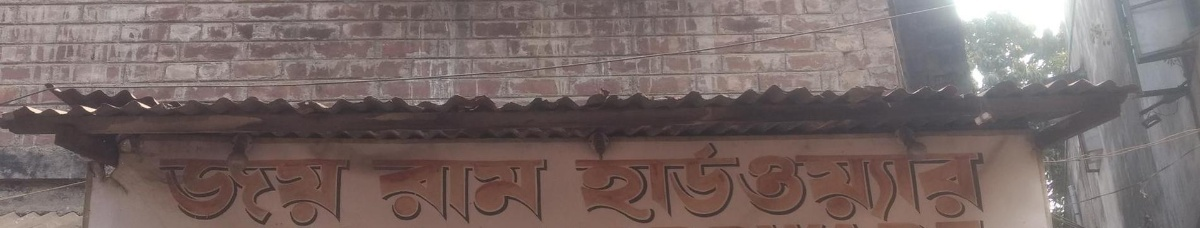text: (577, 132, 592, 228), (593, 132, 608, 228), (609, 132, 624, 228), (625, 132, 640, 228), (641, 132, 656, 228), (657, 132, 672, 228), (673, 132, 688, 228), (689, 132, 704, 228), (705, 132, 720, 228), (721, 132, 736, 228), (737, 132, 752, 228), (753, 132, 768, 228), (769, 132, 784, 228), (785, 132, 800, 228), (801, 132, 816, 228), (817, 132, 832, 228), (833, 132, 848, 228), (849, 132, 864, 228), (865, 132, 880, 228), (881, 132, 896, 228), (897, 132, 912, 228), (913, 132, 928, 228), (929, 132, 944, 228), (945, 132, 960, 228), (961, 132, 976, 228), (977, 132, 992, 228), (564, 132, 576, 228), (145, 150, 160, 224), (161, 150, 176, 224), (177, 150, 192, 224), (193, 150, 208, 224), (209, 150, 224, 224), (225, 150, 240, 224), (241, 150, 256, 224), (257, 150, 272, 224), (273, 150, 288, 224), (289, 150, 304, 224), (305, 150, 320, 224), (321, 150, 336, 224), (337, 150, 352, 224), (369, 154, 384, 226), (385, 154, 400, 226), (401, 154, 416, 226), (417, 154, 432, 226), (433, 154, 448, 226), (449, 154, 464, 226), (465, 154, 480, 226), (481, 154, 496, 226), (497, 154, 512, 226), (513, 154, 528, 226), (529, 154, 544, 226), (545, 154, 556, 226), (353, 150, 361, 224), (993, 132, 996, 228), (141, 150, 144, 224), (367, 154, 368, 226)
